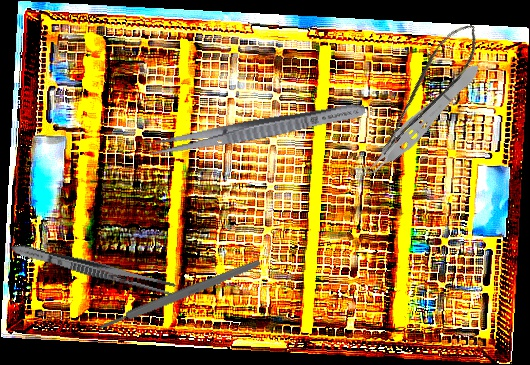Dressing Forceps: (146, 98, 368, 162), (9, 240, 177, 297)
Micro Scissor: (358, 16, 493, 159)
Scalpel Handle: (97, 257, 262, 333)
Tissue Forceps: (350, 56, 487, 189)
